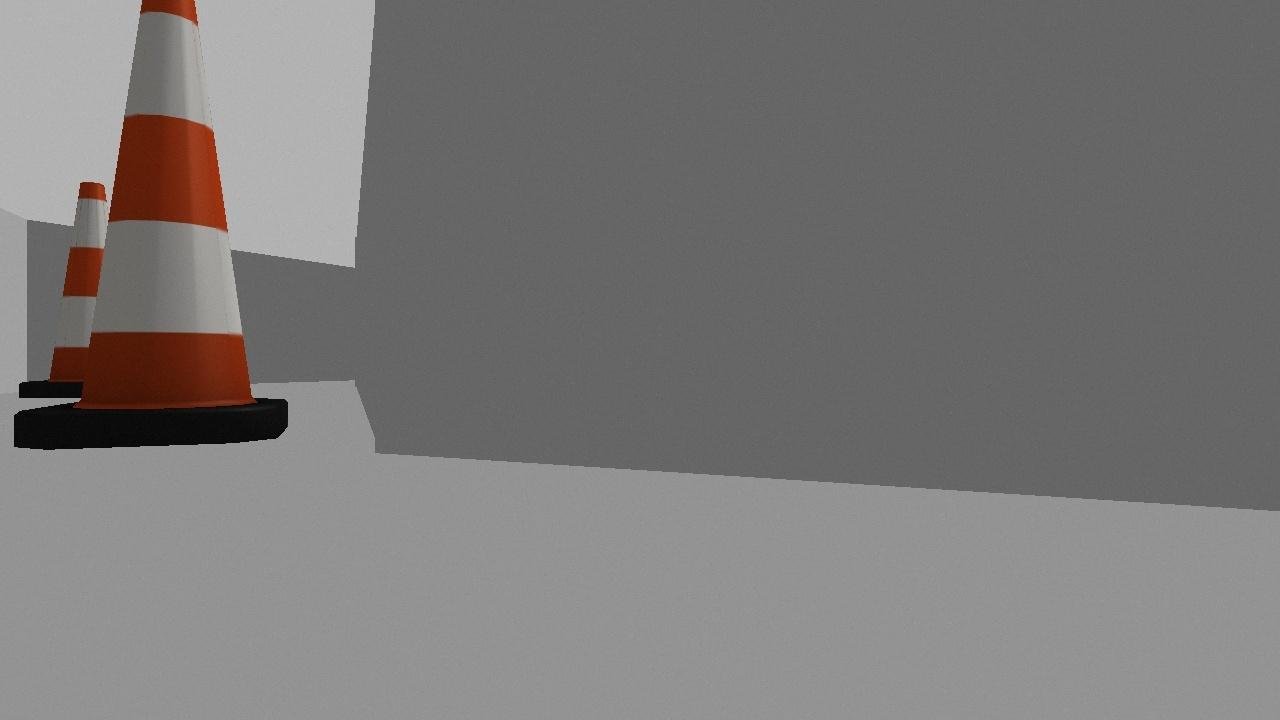cone_barrel: (12, 0, 288, 449), (17, 175, 133, 397)
